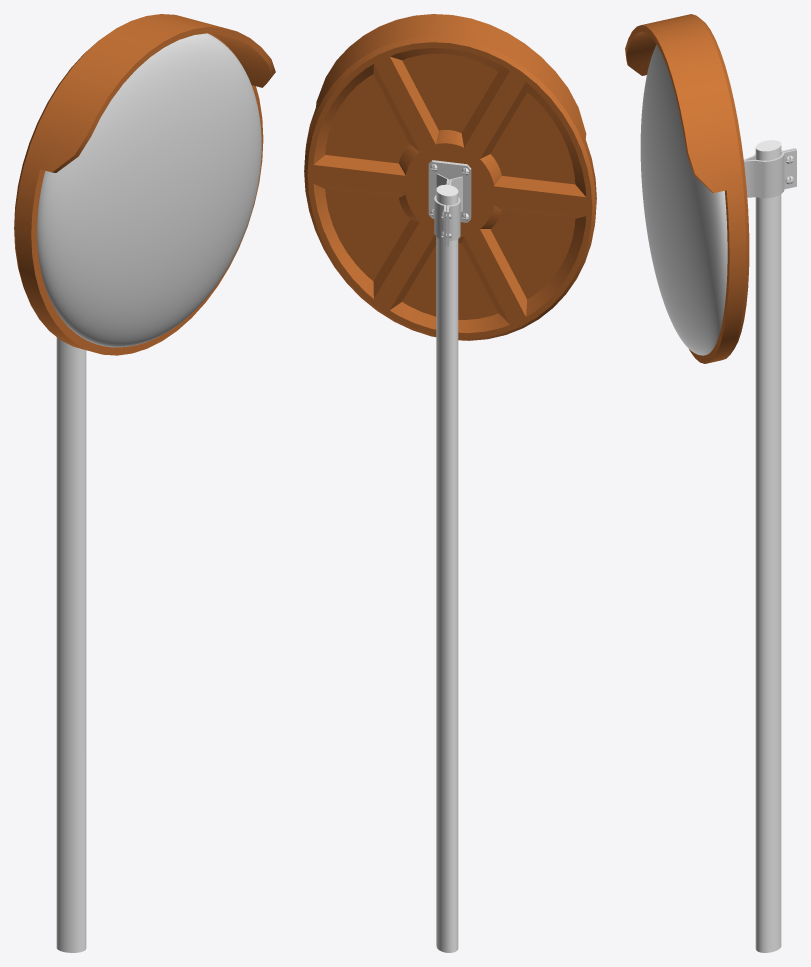
Rendered from convex.glb.
The picture shows the model from 3 angles, left to right: view 1: azimuth 30°, elevation 25°; view 2: azimuth 150°, elevation 25°; view 3: azimuth 270°, elevation 25°; orthographic projection. The views are drawn at different scales.
Parts seen in each view (by area): view 1: convex mirror_0; view 2: convex mirror_0; view 3: convex mirror_0.
Part boxes in pixels (x1,y1,x2,y2): convex mirror_0: [14, 14, 275, 952]; convex mirror_0: [304, 14, 596, 952]; convex mirror_0: [625, 14, 796, 952].
Size of the model in its own units: 0.1864 by 0.6001 by 0.1001.
